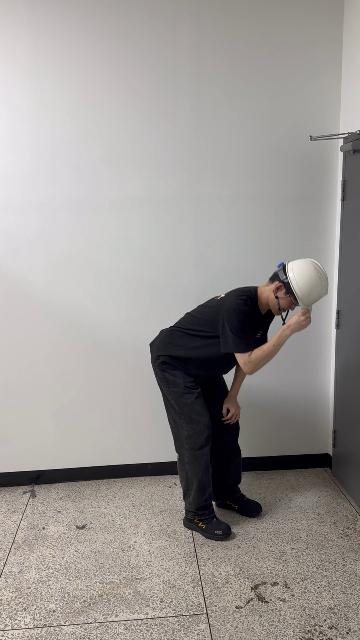helmet_worn: (284, 257, 329, 309)
shoe_worn: (184, 513, 233, 540), (216, 493, 262, 517)
vest_not_worn: (149, 287, 271, 394)
